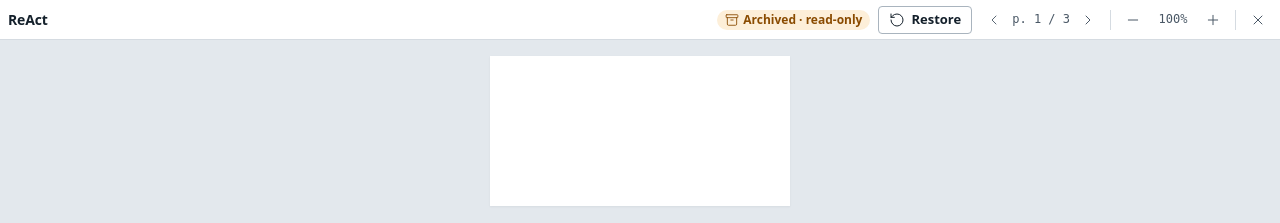
DocumentViewer › restores an archived document and stays open
Expected: the text "Archived · read-only" is shown, [717,10,870,30]
Click the button "Restore" at (925, 20), box [878,6,972,34]
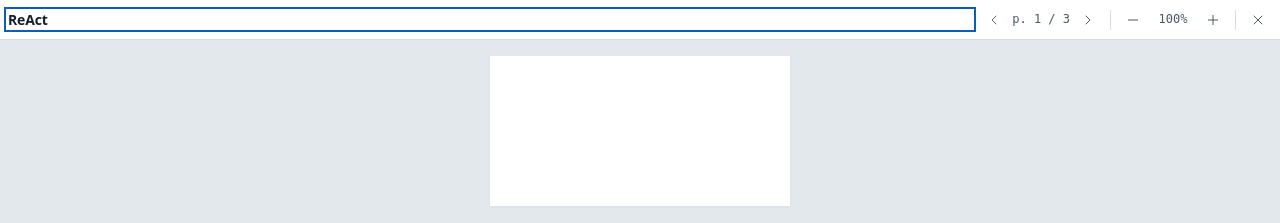
Expected: the text "p. 1 / 3" is shown, [1012,11,1070,28]
Now the text "Archived · read-only" is gone
